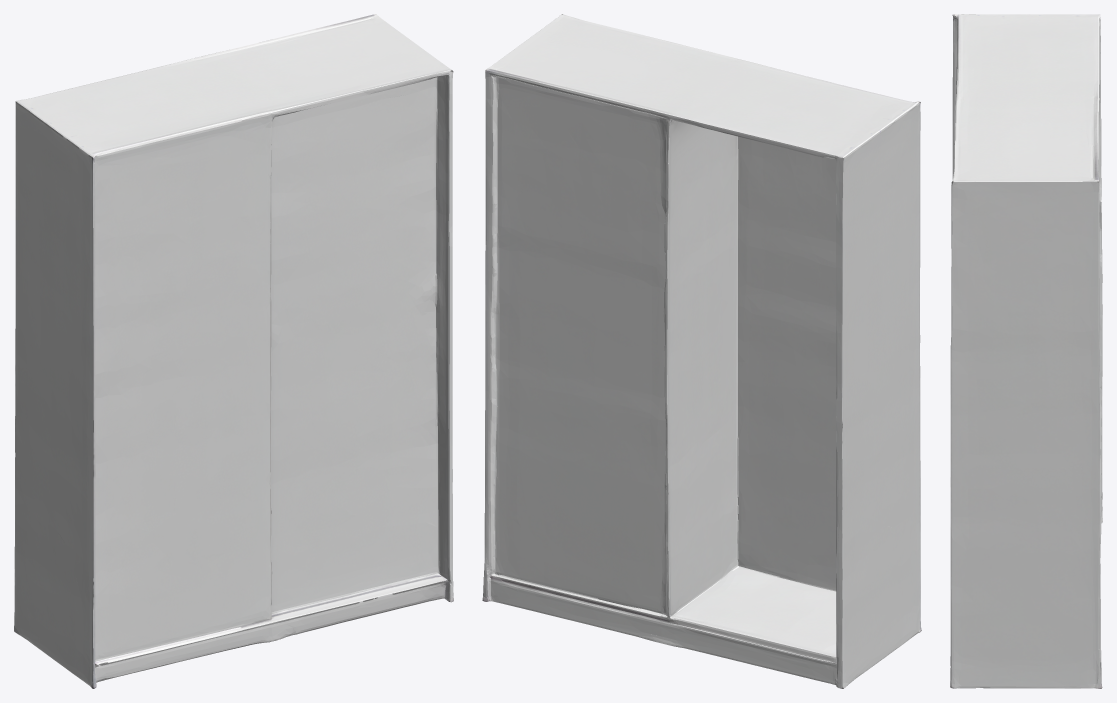
Rendered from wardrobes_19053_image_3.glb.
3 views of the same model, side by side, from view 1: azimuth 30°, elevation 25°; view 2: azimuth 150°, elevation 25°; view 3: azimuth 270°, elevation 25° (orthographic). The views are drawn at different scales.
Parts seen in each view (by area): view 1: world; view 2: world; view 3: world.
Part boxes in pixels (x1,y1,x2,y2): world: (14, 14, 453, 688); world: (482, 14, 921, 688); world: (950, 14, 1102, 688).
Bounding box in the file's own units: 0.7122 × 1 × 0.2728.
Materials: 1 (1 with a texture image).
